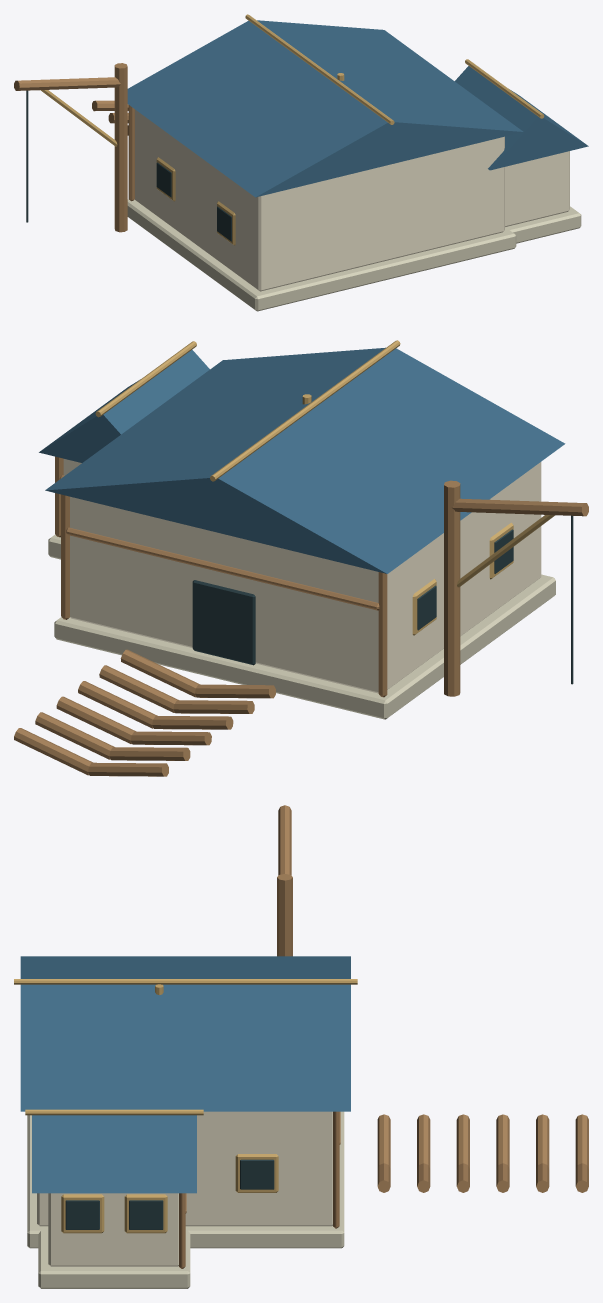
The model's file is level_09.glb.
3 renders of one model, top to bottom at view 1: azimuth 30°, elevation 25°; view 2: azimuth 150°, elevation 25°; view 3: azimuth 270°, elevation 25°, orthographic. The views are drawn at different scales.
Visible parts, largest first — view 1: shipyard — level 09; view 2: shipyard — level 09; view 3: shipyard — level 09.
Boxes of the visible parts, left/top/right/bottom form: shipyard — level 09: left=14, top=14, right=588, bottom=311; shipyard — level 09: left=14, top=340, right=588, bottom=776; shipyard — level 09: left=14, top=805, right=588, bottom=1288.
Bounding box in the file's own units: 9.65 × 3.66 × 8.7.
